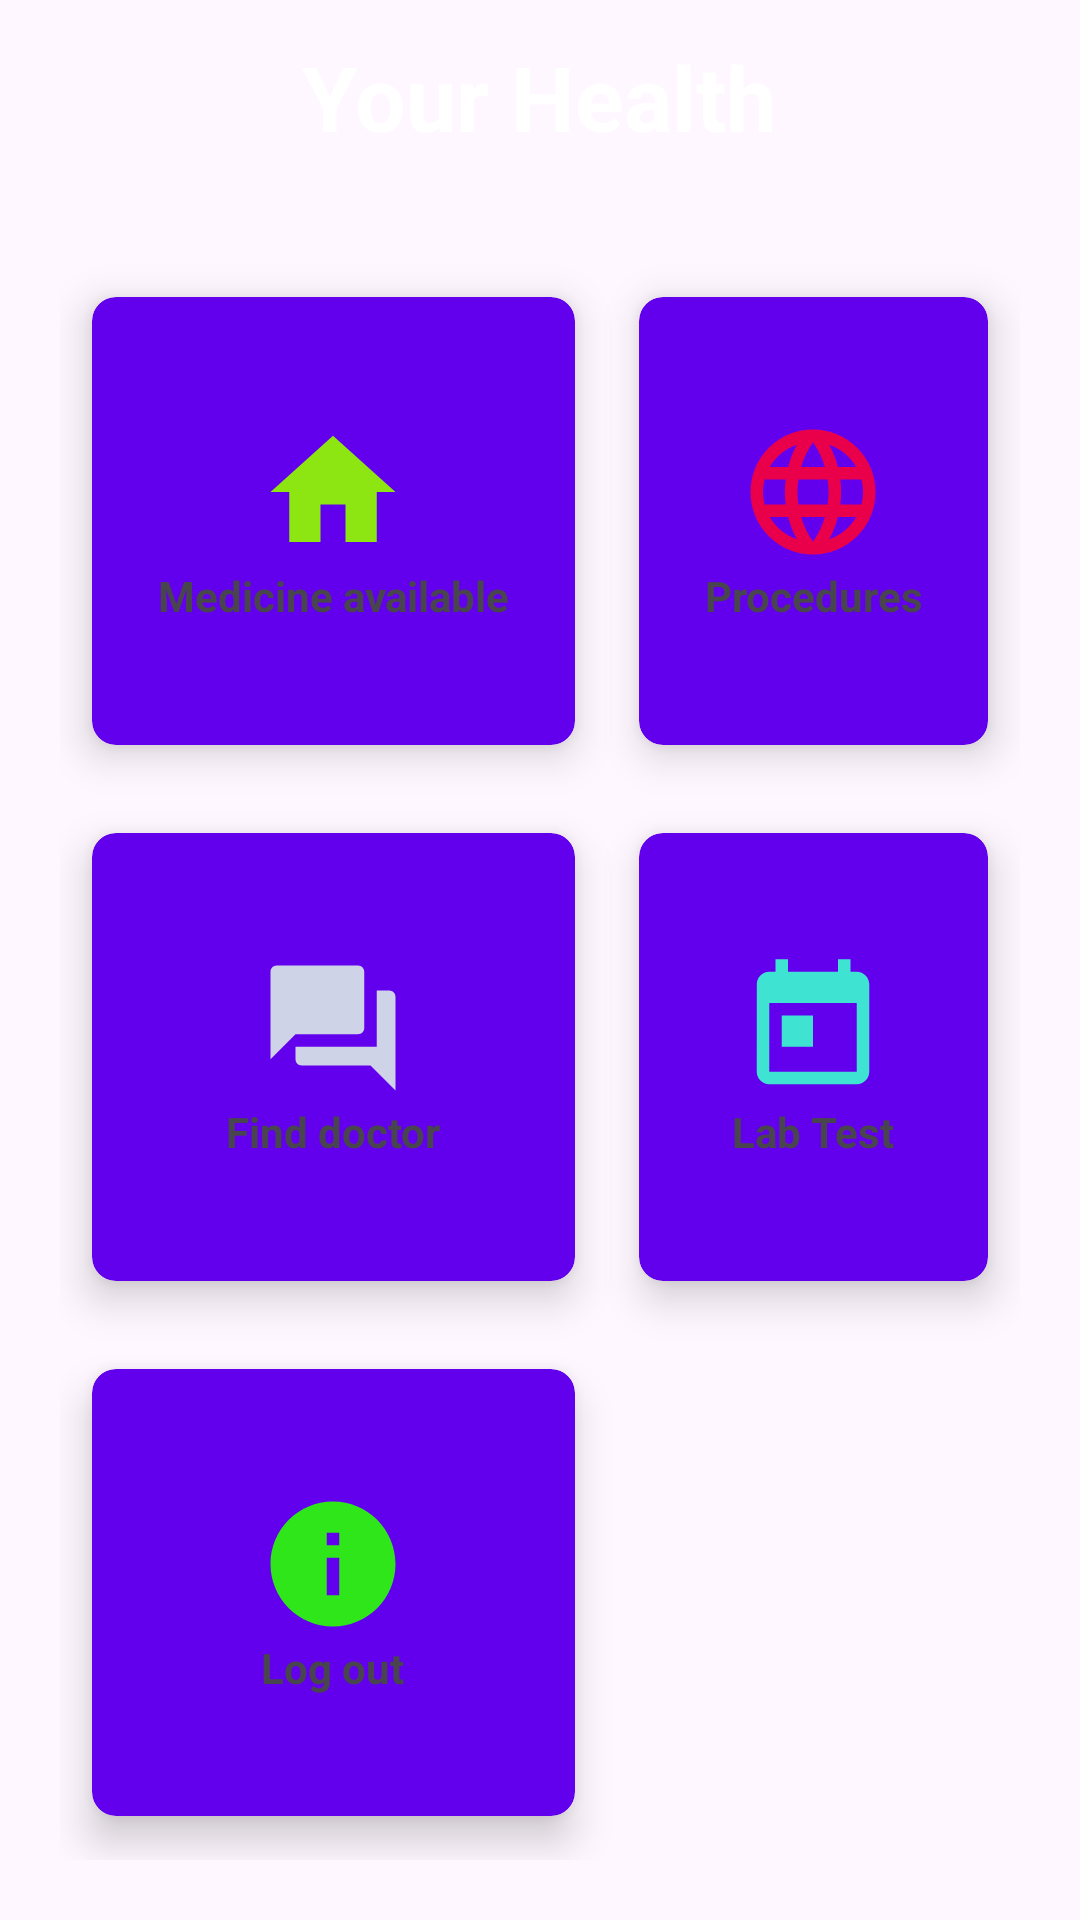

Where icons sit on this 1080 × 1920 app screen, as (x1, y1, x2, y2):
calendar: (756, 959, 870, 1085)
chat: (270, 965, 396, 1091)
home: (271, 436, 395, 542)
info: (270, 1501, 396, 1627)
language: (750, 429, 876, 555)
